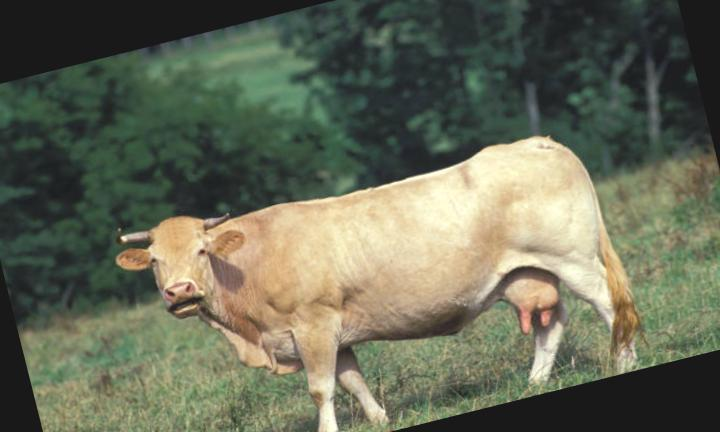Brahman: (116, 136, 639, 432)
